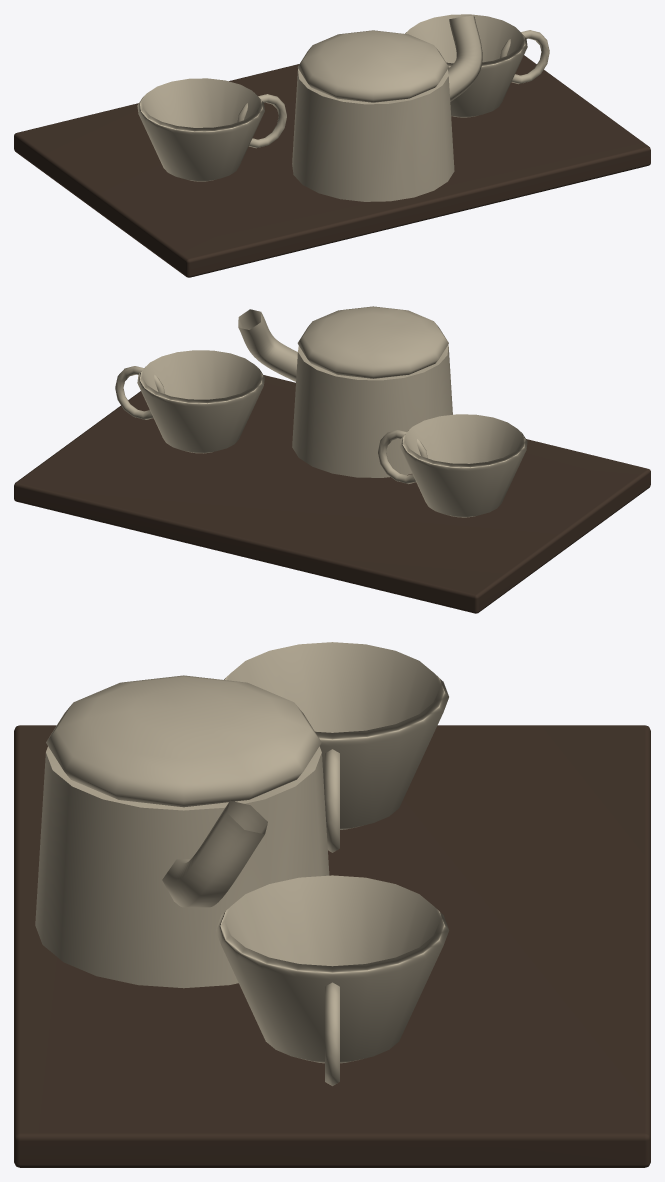
The model's file is prop-tea-tray-v01.glb.
3 renders of one model, top to bottom at view 1: azimuth 30°, elevation 25°; view 2: azimuth 150°, elevation 25°; view 3: azimuth 270°, elevation 25°, orthographic. The views are drawn at different scales.
Visible parts, largest first — view 1: tea-tray; view 2: tea-tray; view 3: tea-tray.
Part boxes in pixels (x1=…): tea-tray: x1=14, y1=14, x2=650, y2=277; tea-tray: x1=14, y1=306, x2=650, y2=613; tea-tray: x1=14, y1=642, x2=650, y2=1167.
Size of the model in its own units: 0.46 by 0.133 by 0.3.
